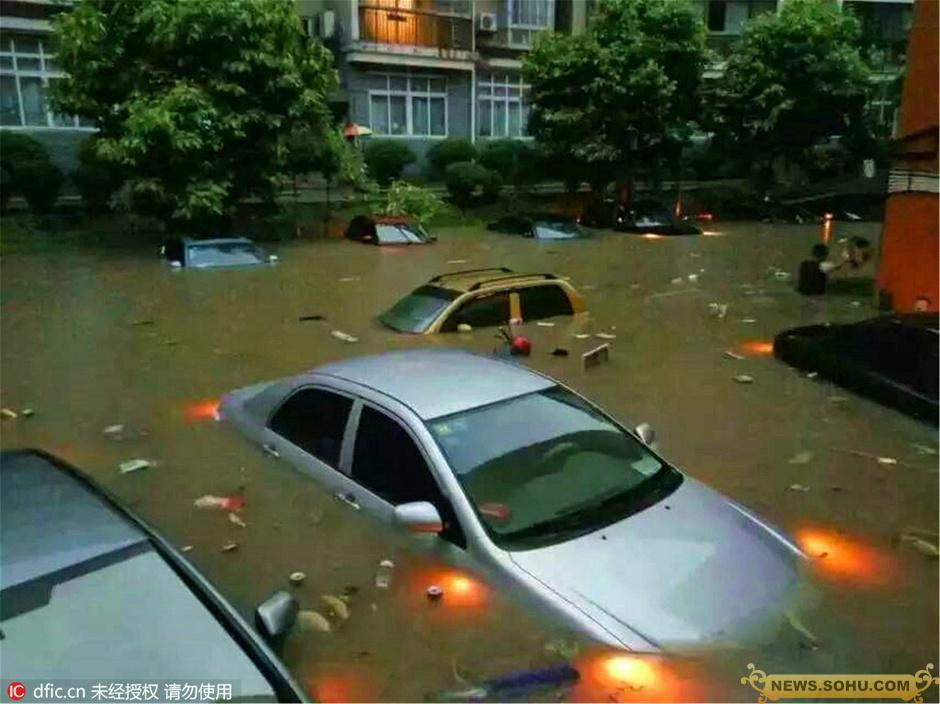water: (2, 244, 939, 703), (46, 419, 938, 702), (5, 219, 896, 333)
